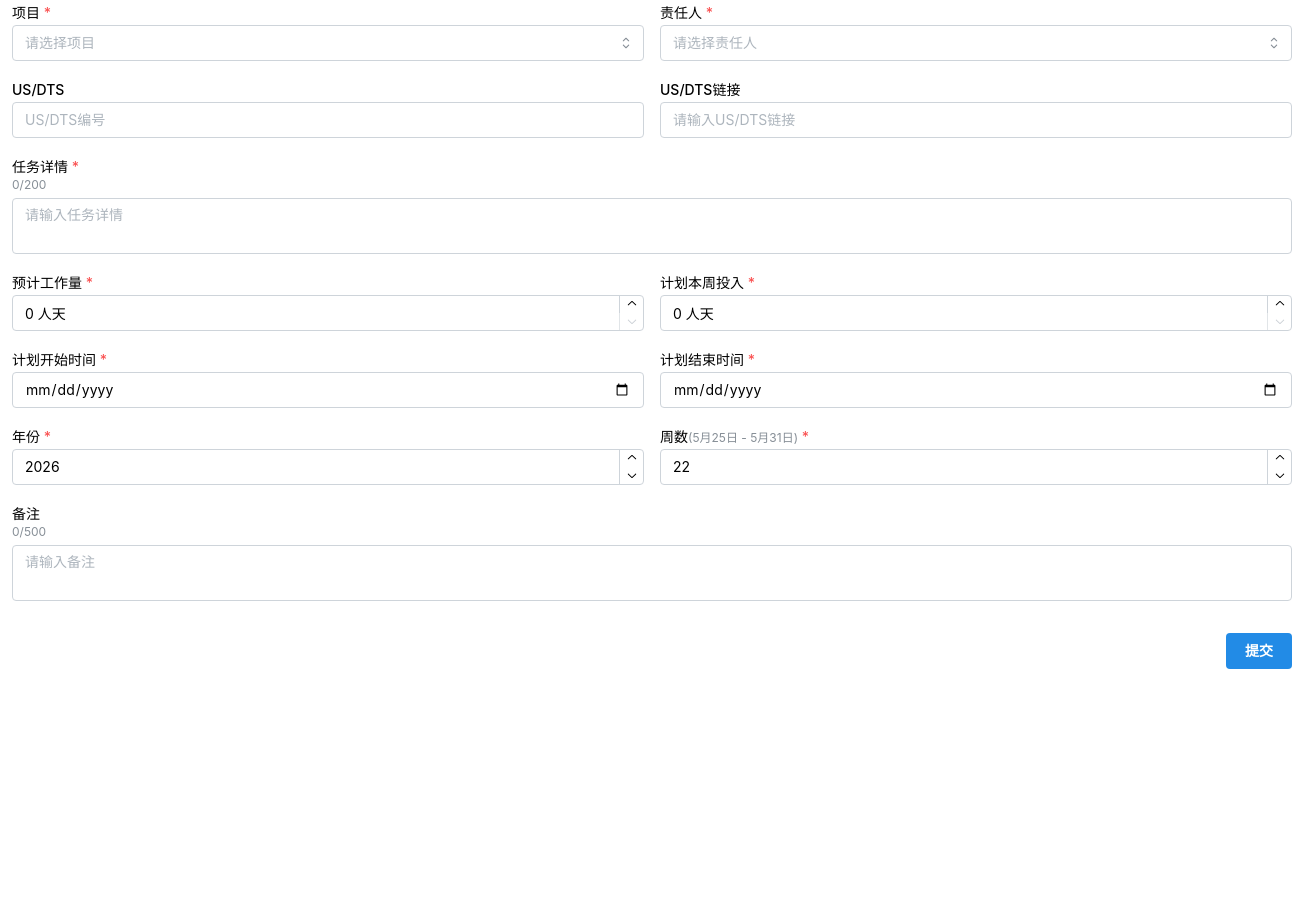
Test case: TaskForm 组件（新增模式） › 项目下拉列表 › 显示项目下拉选项
Click the field labelled "项目 *": (328, 43) top-left (12, 25), bottom-right (644, 61)
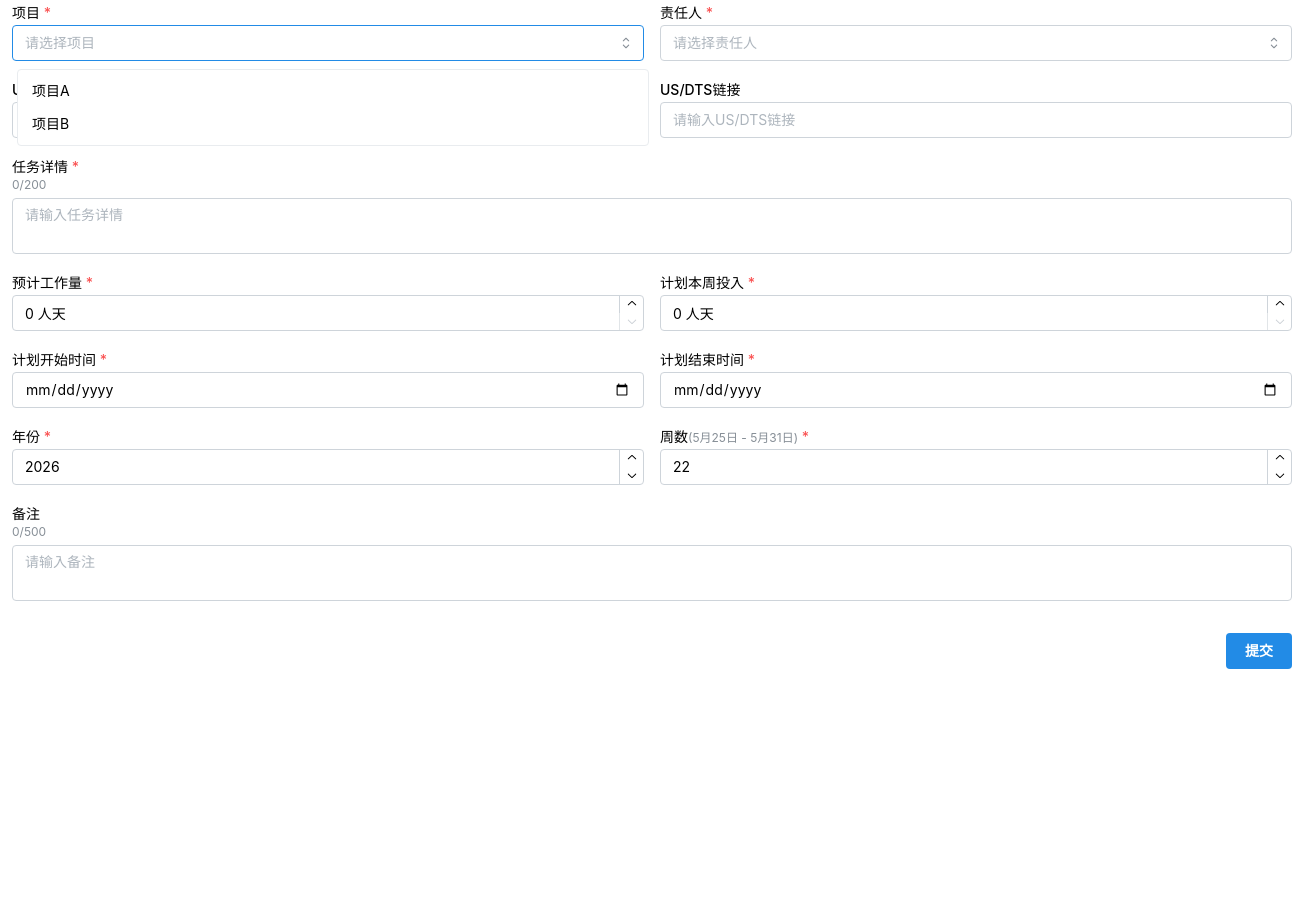
Expected: the option "项目A" is shown, top-left (32, 82), bottom-right (70, 99)
Expected: the option "项目B" is shown, top-left (32, 116), bottom-right (69, 132)
